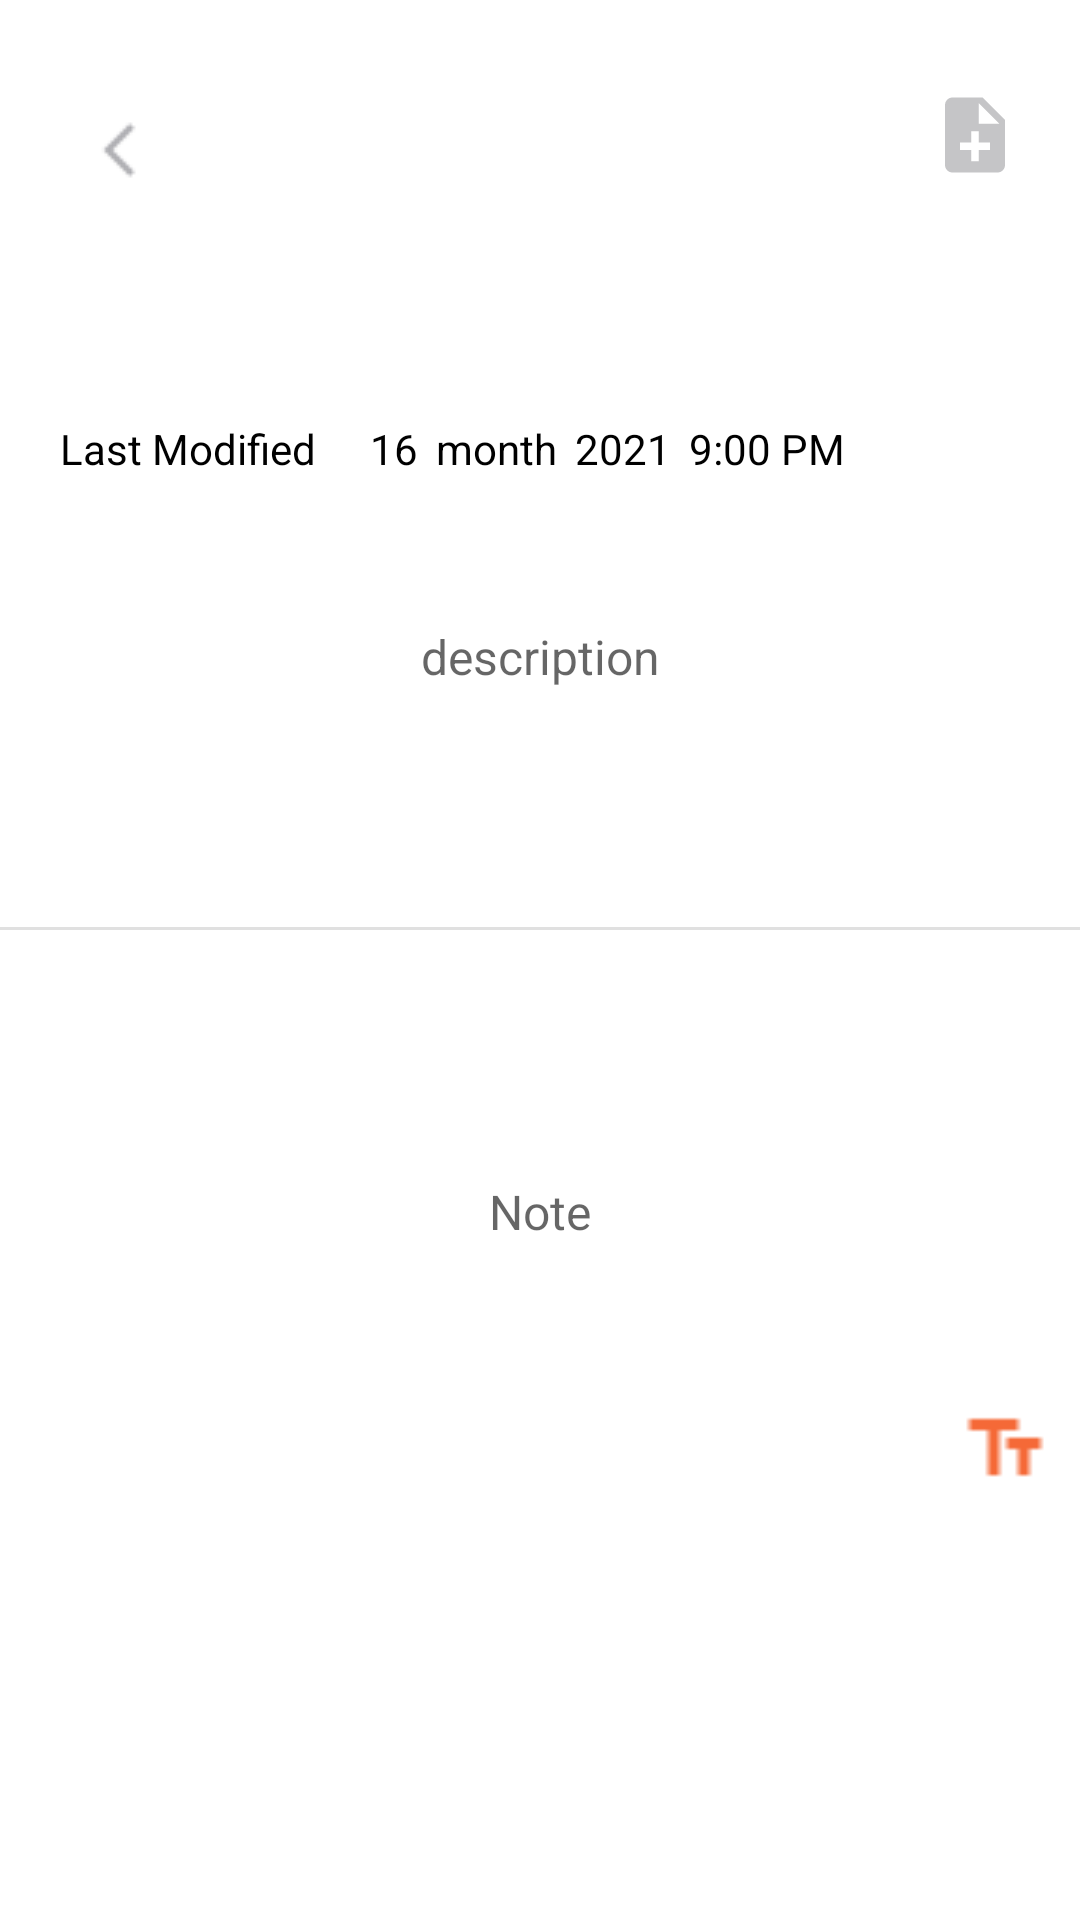

Named icons in this screenshot (1080x1920) and their bounding boxes, Rect(x1, y1, x2, y2):
add notes: Rect(945, 97, 1005, 173)
back: Rect(104, 124, 134, 176)
text fields: Rect(967, 1418, 1043, 1477)
